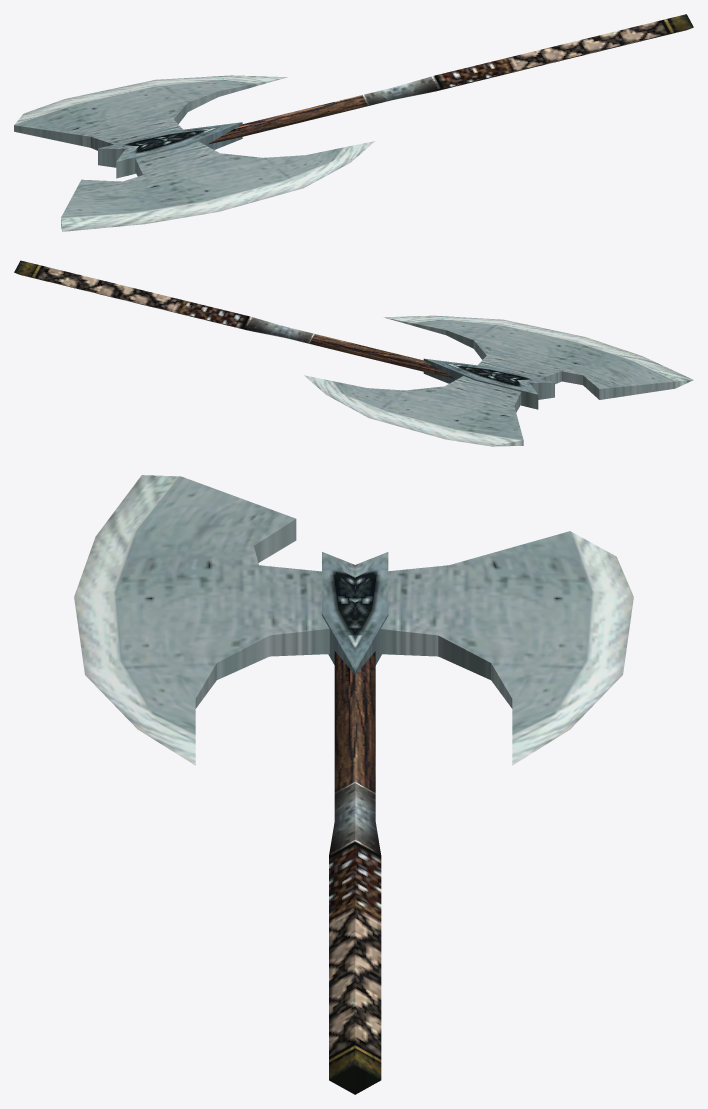
Rendered from topor15.glb.
3 views of the same model, one above another, from view 1: azimuth 30°, elevation 25°; view 2: azimuth 150°, elevation 25°; view 3: azimuth 270°, elevation 25° (orthographic). The views are drawn at different scales.
Parts seen in each view (by area): view 1: zengin; view 2: zengin; view 3: zengin.
Boxes of the visible parts, x1,y1,x2,y2 form: zengin: (14,14,693,231); zengin: (14,260,693,446); zengin: (74,475,633,1094).
Size of the model in its own units: 1.29 by 0.036 by 0.5055.
Materials: 2 (2 with a texture image).
